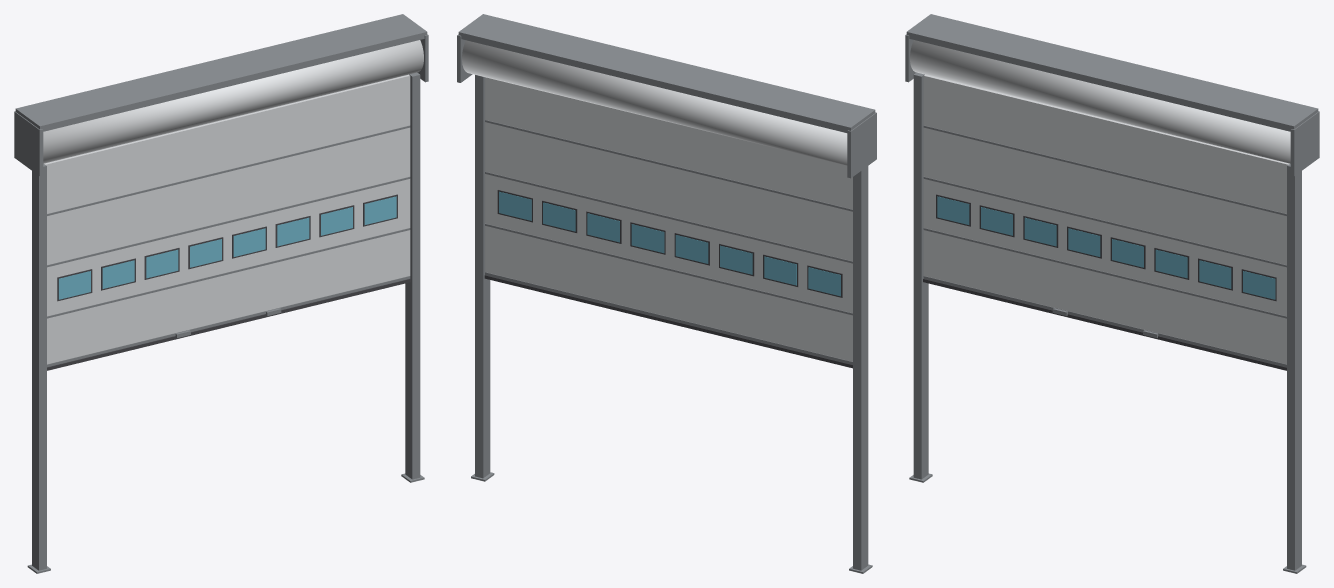
The model's file is ShutterRolls.fbx.
3 views of the same model, side by side, from view 1: azimuth 30°, elevation 25°; view 2: azimuth 150°, elevation 25°; view 3: azimuth 330°, elevation 25° (orthographic).
Parts seen in each view (by area): view 1: Shutter_RollUp_HalfOpen; view 2: Shutter_RollUp_HalfOpen; view 3: Shutter_RollUp_HalfOpen.
Boxes of the visible parts, left/top/right/bottom form: Shutter_RollUp_HalfOpen: left=14, top=14, right=428, bottom=573; Shutter_RollUp_HalfOpen: left=457, top=14, right=876, bottom=573; Shutter_RollUp_HalfOpen: left=905, top=14, right=1319, bottom=573.
Bounding box in the file's own units: 388 × 428 × 44.
